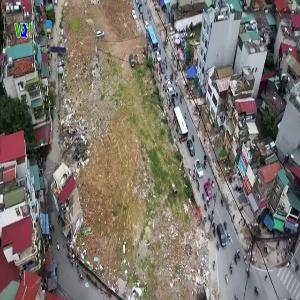drone: (35, 32, 81, 78)
